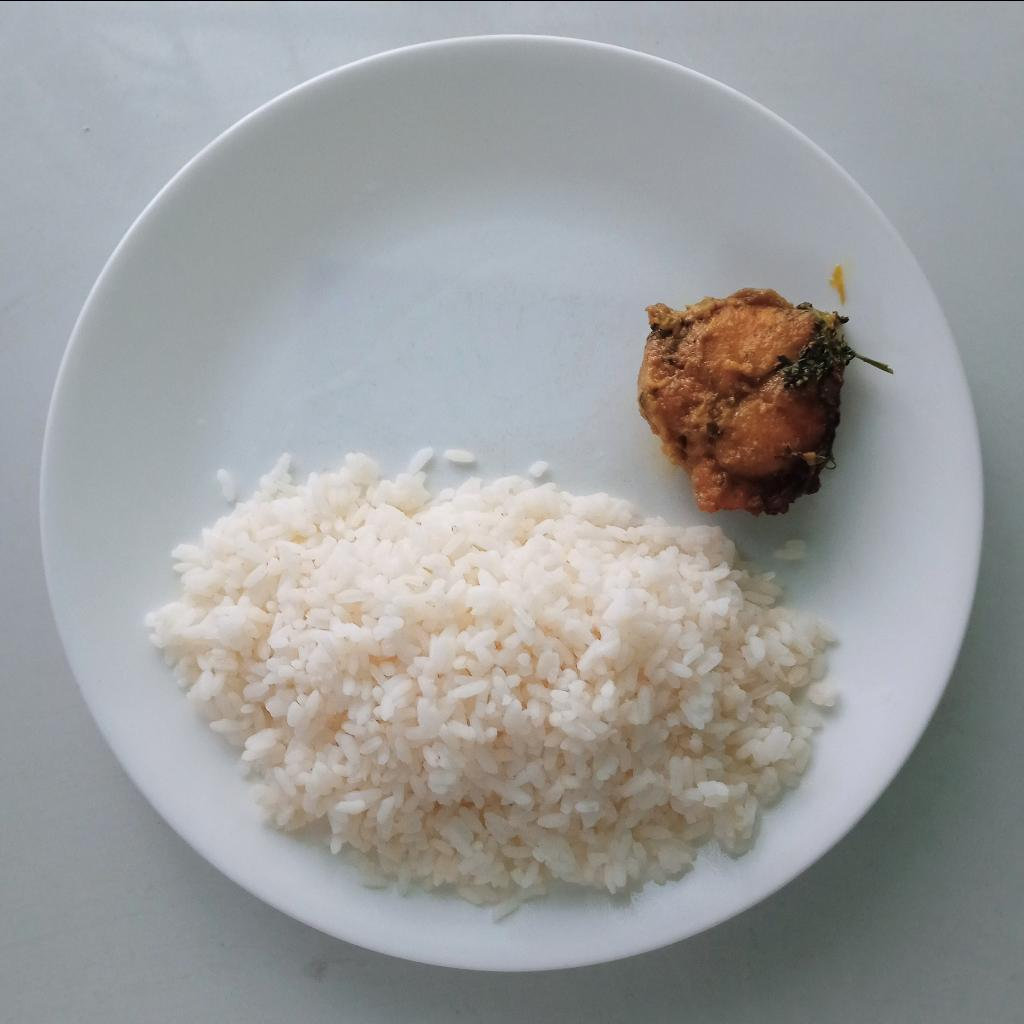fish: (638, 286, 849, 516)
rice: (146, 444, 842, 929)
